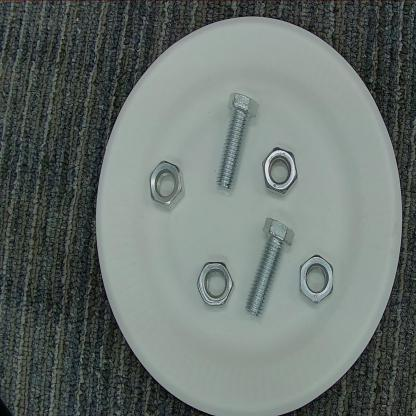FOD: (241, 214, 297, 318), (211, 88, 262, 198), (260, 140, 302, 201), (146, 157, 188, 212), (196, 258, 236, 309), (298, 252, 338, 302)
